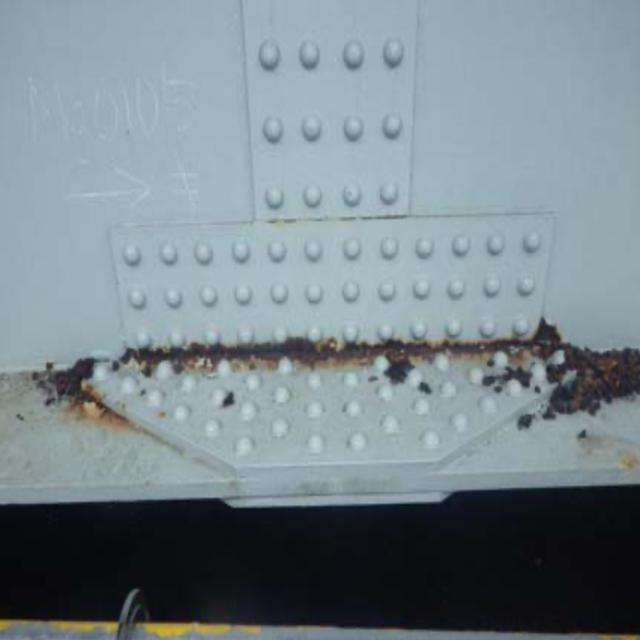corrosion: (47, 311, 640, 466)
